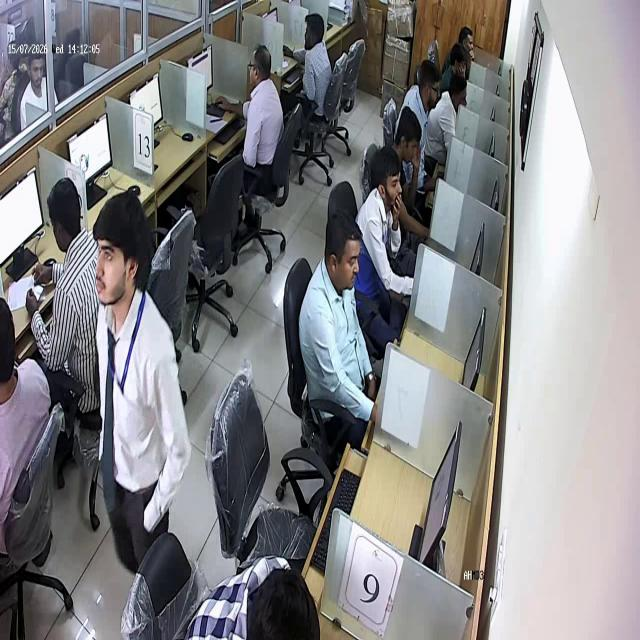paper-chit: (24, 278, 48, 302)
